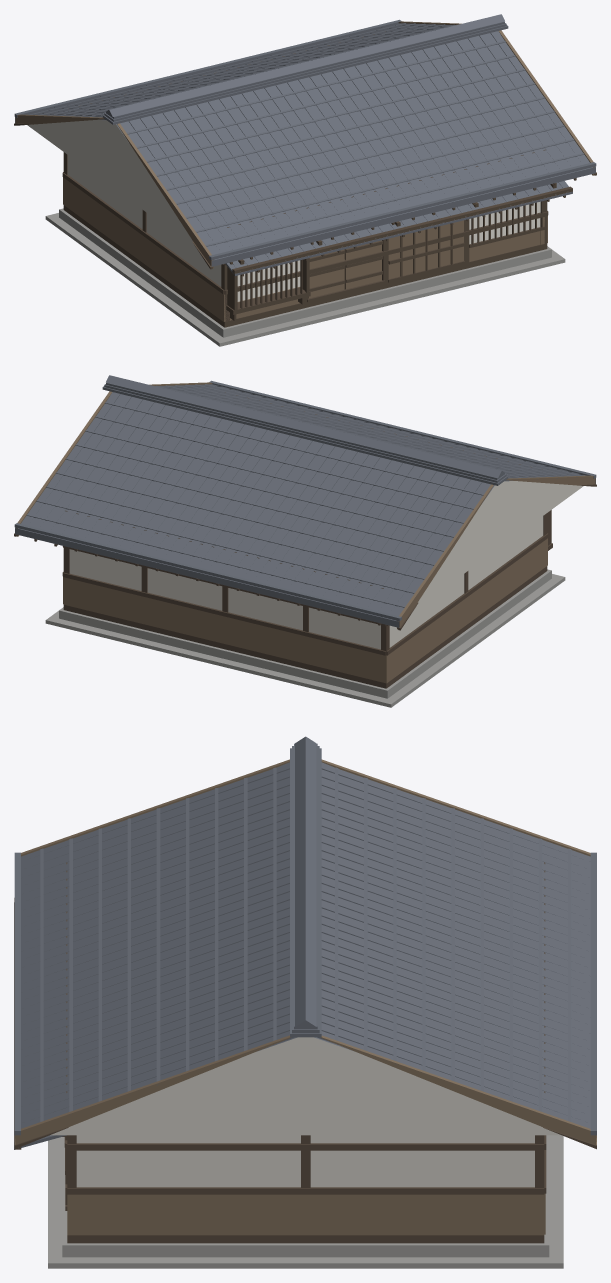
File: machiya_f_m.glb
3 renders of one model, top to bottom at view 1: azimuth 30°, elevation 25°; view 2: azimuth 150°, elevation 25°; view 3: azimuth 270°, elevation 25°, orthographic. The views are drawn at different scales.
Visible parts, largest first — view 1: machiya_f_m; view 2: machiya_f_m; view 3: machiya_f_m.
Part boxes in pixels (x1,y1,x2,y2): machiya_f_m: (14,14,596,346); machiya_f_m: (14,375,596,707); machiya_f_m: (14,736,596,1268).
Bounding box in the file's own units: 10.78 × 4.66 × 9.29.
